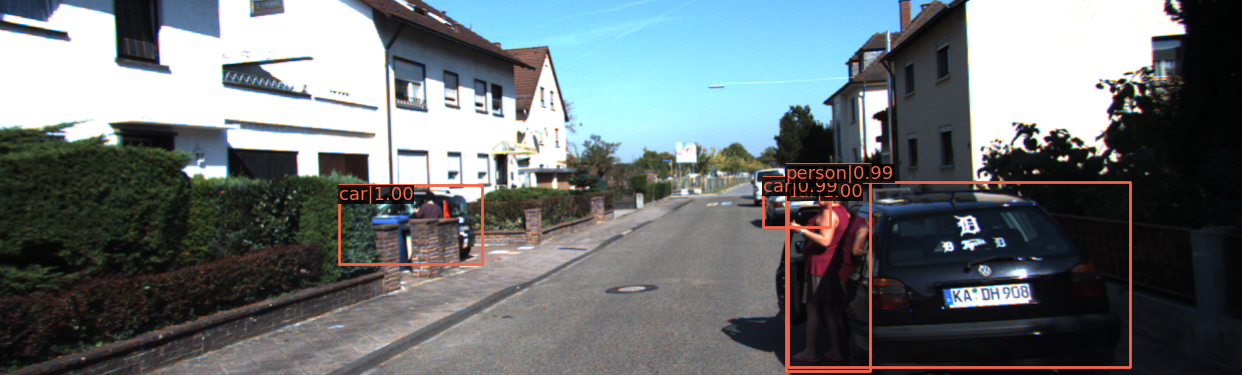car: (804, 188, 1127, 375), (322, 190, 485, 268), (765, 180, 826, 230)
person: (798, 170, 869, 372), (414, 188, 445, 273)
